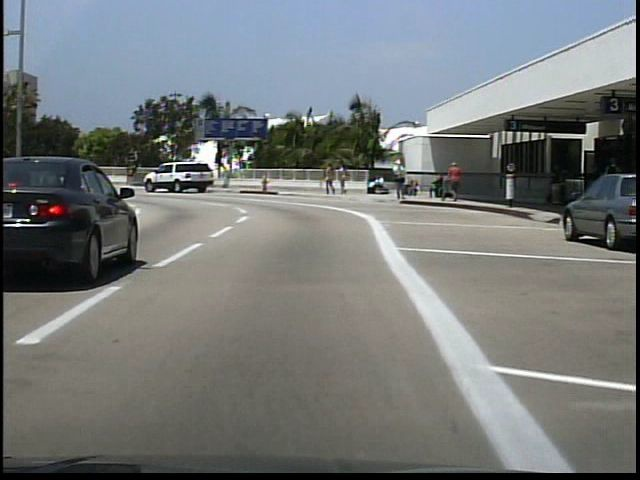person: (596, 153, 624, 222), (393, 157, 408, 204), (449, 160, 466, 201), (339, 162, 351, 198), (325, 161, 337, 196), (366, 176, 387, 195)
